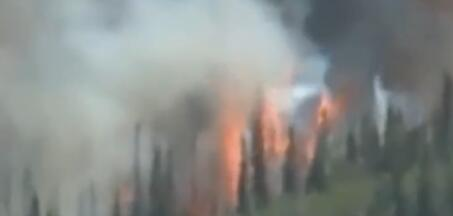yanwu: (1, 2, 300, 210), (289, 1, 453, 131)
